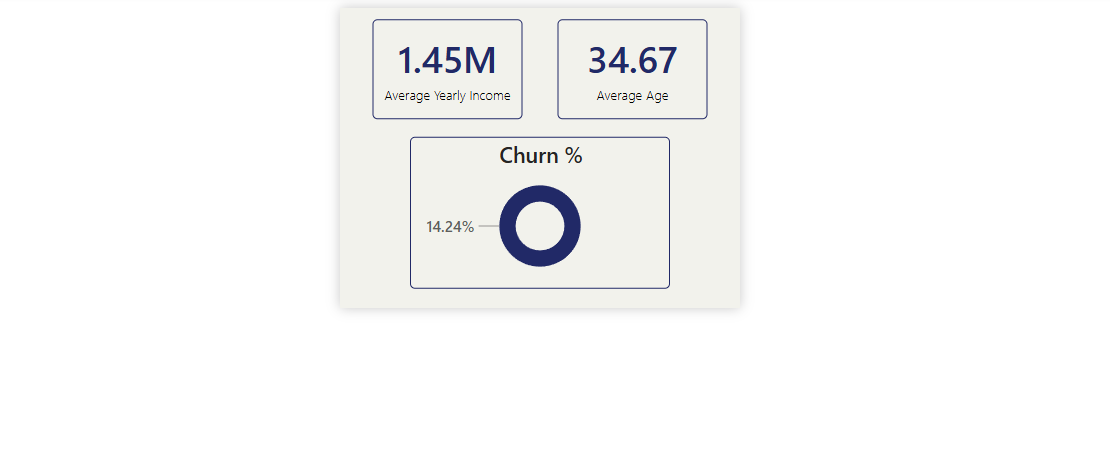

What the dashboard file says about the page in this screenshot:
{"tool":"powerbi","page":{"name":"Funnel Tooltip","canvas":[320,240],"ordinal":4},"visuals":[{"type":"card","fields":{"Values":["_Measures.Average Yearly Income"]},"box":[26,9,120,80],"z":0},{"type":"card","fields":{"Values":["_Measures.Average Age"]},"box":[174,9,120,80],"z":1000},{"type":"donutChart","title":"Churn %","fields":{"Y":["_Measures.Churned %"]},"box":[56,103,208,122],"z":2000}]}

Visuals, with their boxes on the page's 320x240 design canvas (x1, y1, x2, y2). These are canvas units, not pixel positions in the 1110x460 screenshot, which may show the page scaled, cropped or inside an application window:
card - _Measures.Average Yearly Income: (26,9,146,89)
card - _Measures.Average Age: (174,9,294,89)
"Churn %" donutChart: (56,103,264,225)
